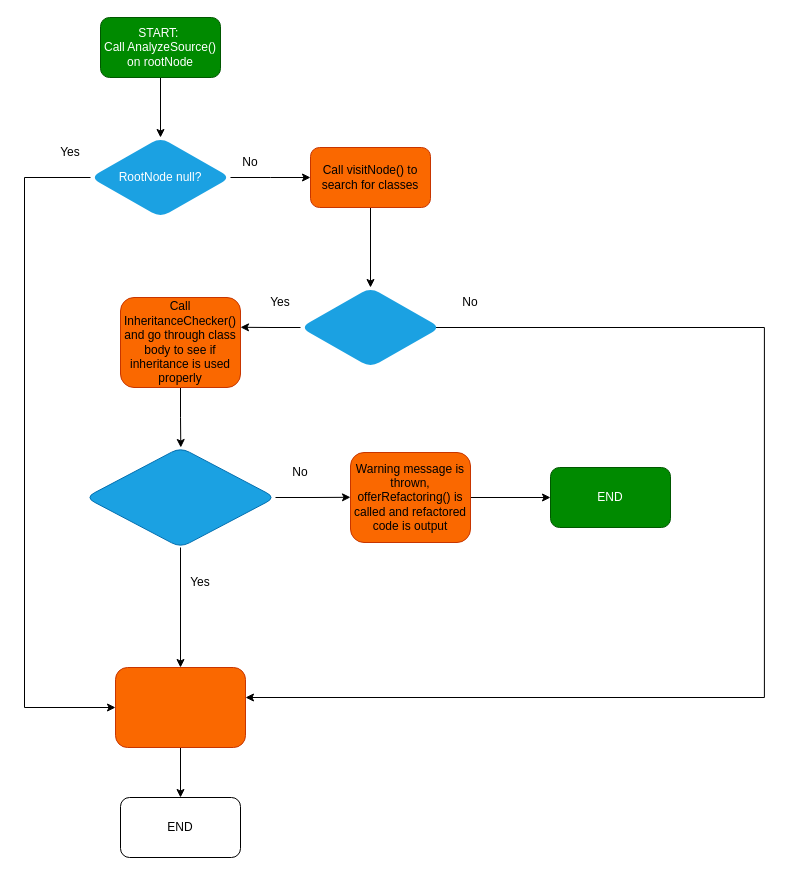
Image size: 790x875. Some labels were removed from this diagram. The box of each missing label's shape, as (x1, y1, x2, y2) in pixels:
Class uses at least one of the defined conditions for valid inheritance?: (84, 446, 276, 548)
Current class node has a base class?: (300, 287, 440, 367)
Input file uses inheritance properly, nothing is detected: (114, 666, 246, 748)
